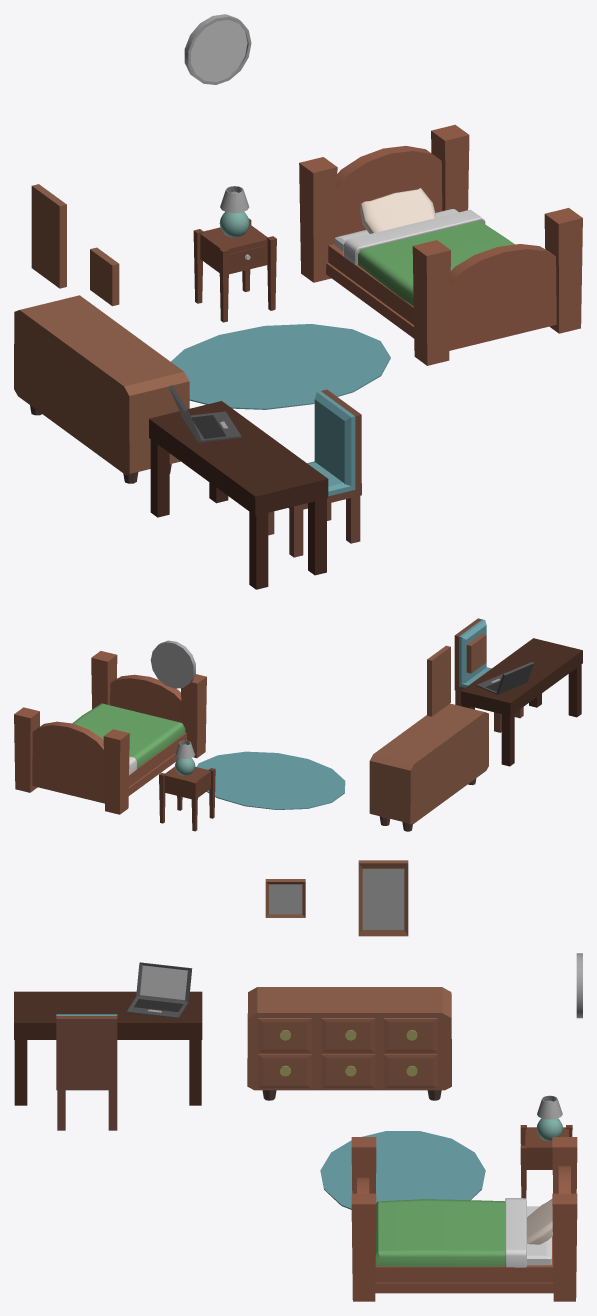
File: Bedroom Assets.fbx
3 views of the same model, one above another, from view 1: azimuth 30°, elevation 25°; view 2: azimuth 150°, elevation 25°; view 3: azimuth 270°, elevation 25° (orthographic). The views are drawn at different scales.
Parts seen in each view (by area): view 1: polySurface4, pCylinder20, pCube33, pCylinder9, pCube43, pCube24, pCylinder5, pCube53, pCube36, pCube52, pCylinder8; view 2: polySurface4, pCylinder20, pCylinder9, pCube33, pCube24, pCylinder5, pCube43, pCube53, pCube36, pCube52, pCylinder8; view 3: polySurface4, pCylinder20, pCylinder9, pCube33, pCube43, pCube53, pCube36, pCube52, pCube24, pCylinder8.
Part boxes in pixels (x1,y1,x2,y2): polySurface4: [299, 124, 582, 365]; pCylinder20: [14, 295, 189, 483]; pCube33: [149, 401, 328, 589]; pCylinder9: [171, 324, 390, 409]; pCube43: [268, 389, 361, 557]; pCube24: [193, 218, 276, 322]; pCylinder5: [184, 14, 251, 84]; pCube53: [31, 184, 66, 288]; pCube36: [168, 385, 241, 442]; pCube52: [90, 247, 119, 306]; pCylinder8: [219, 186, 249, 237]; polySurface4: [14, 651, 206, 814]; pCylinder20: [369, 703, 488, 831]; pCylinder9: [196, 751, 345, 809]; pCube33: [461, 638, 582, 766]; pCube24: [159, 766, 215, 831]; pCylinder5: [150, 640, 195, 688]; pCube43: [454, 618, 523, 732]; pCube53: [427, 645, 450, 716]; pCube36: [476, 662, 533, 694]; pCube52: [466, 633, 486, 673]; pCylinder8: [175, 740, 195, 775]; polySurface4: [351, 1137, 577, 1301]; pCylinder20: [247, 987, 451, 1100]; pCylinder9: [320, 1131, 485, 1209]; pCube33: [14, 991, 202, 1105]; pCube43: [56, 1014, 117, 1130]; pCube53: [358, 860, 408, 936]; pCube36: [126, 962, 192, 1018]; pCube52: [265, 879, 305, 917]; pCube24: [520, 1125, 572, 1198]; pCylinder8: [536, 1095, 562, 1141].
Size of the model in its own units: 16.24 by 8.24 by 17.43.
